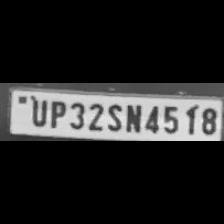1: (182, 102, 198, 136)
2: (85, 100, 103, 132)
3: (67, 99, 85, 129)
4: (142, 102, 160, 134)
5: (159, 102, 179, 134)
8: (196, 104, 218, 136)
N: (123, 101, 143, 133)
P: (46, 98, 64, 128)
S: (104, 101, 122, 131)
U: (27, 97, 47, 127)
